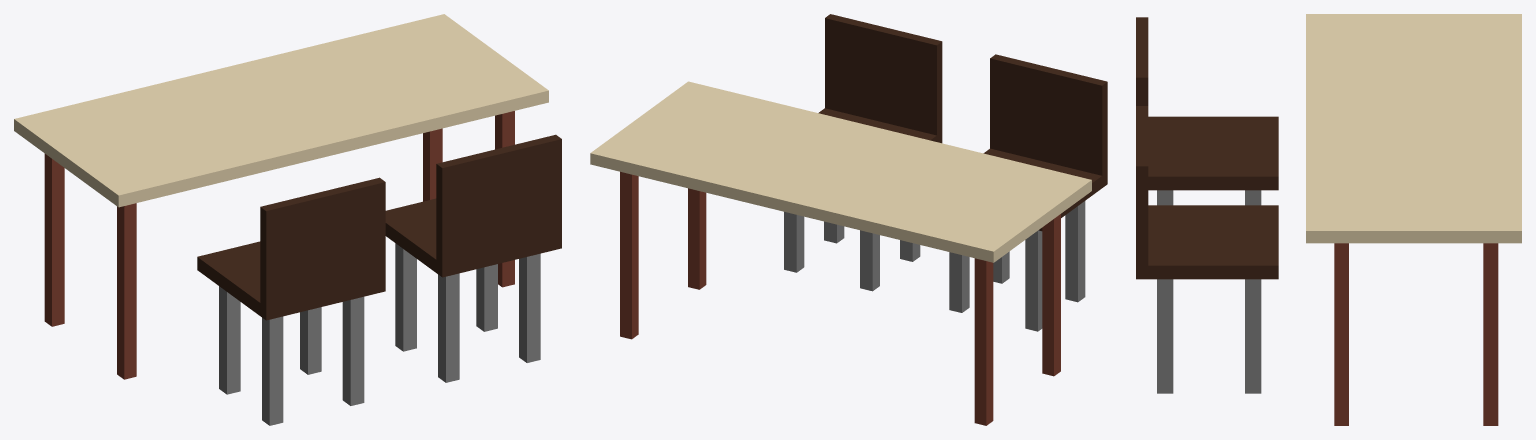
The model's file is chairs_desk.fbx.
The picture shows the model from 3 angles, left to right: view 1: azimuth 30°, elevation 25°; view 2: azimuth 150°, elevation 25°; view 3: azimuth 270°, elevation 25°; orthographic projection. The views are drawn at different scales.
Visible parts, largest first — view 1: Cube.003, Cube.005, Cube.000; view 2: Cube.003, Cube.005, Cube.000; view 3: Cube.003, Cube.000, Cube.005.
Boxes of the visible parts, bbox=[...] form: Cube.003: bbox=[14, 14, 548, 379]; Cube.005: bbox=[197, 177, 385, 425]; Cube.000: bbox=[385, 134, 561, 382]; Cube.003: bbox=[590, 81, 1091, 425]; Cube.005: bbox=[949, 54, 1107, 331]; Cube.000: bbox=[784, 14, 942, 291]; Cube.003: bbox=[1306, 14, 1521, 425]; Cube.000: bbox=[1136, 106, 1278, 393]; Cube.005: bbox=[1136, 17, 1278, 205].
Size of the model in its own units: 545 by 275 by 410.
